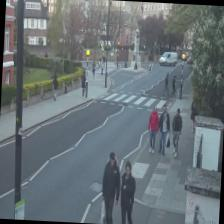person: (100, 151, 122, 224), (119, 159, 137, 224), (156, 104, 169, 156), (146, 104, 159, 152), (170, 108, 182, 156)
